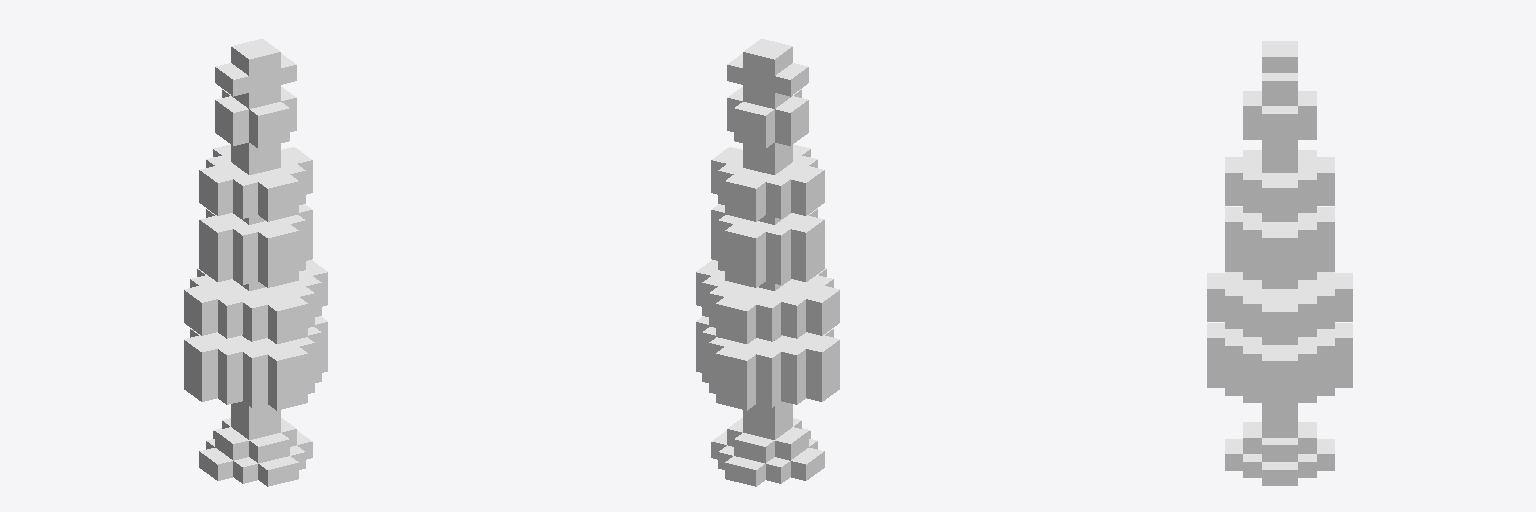
The model's file is BIgTree.obj.
3 renders of one model, left to right at view 1: azimuth 30°, elevation 25°; view 2: azimuth 150°, elevation 25°; view 3: azimuth 270°, elevation 25°, orthographic.
Parts seen in each view (by area): view 1: object 1; view 2: object 1; view 3: object 1.
Boxes of the visible parts, x1=… form: object 1: x1=184, y1=39, x2=327, y2=486; object 1: x1=696, y1=39, x2=839, y2=486; object 1: x1=1207, y1=41, x2=1352, y2=485.
Size of the model in its own units: 0.8 by 2.5 by 0.8.